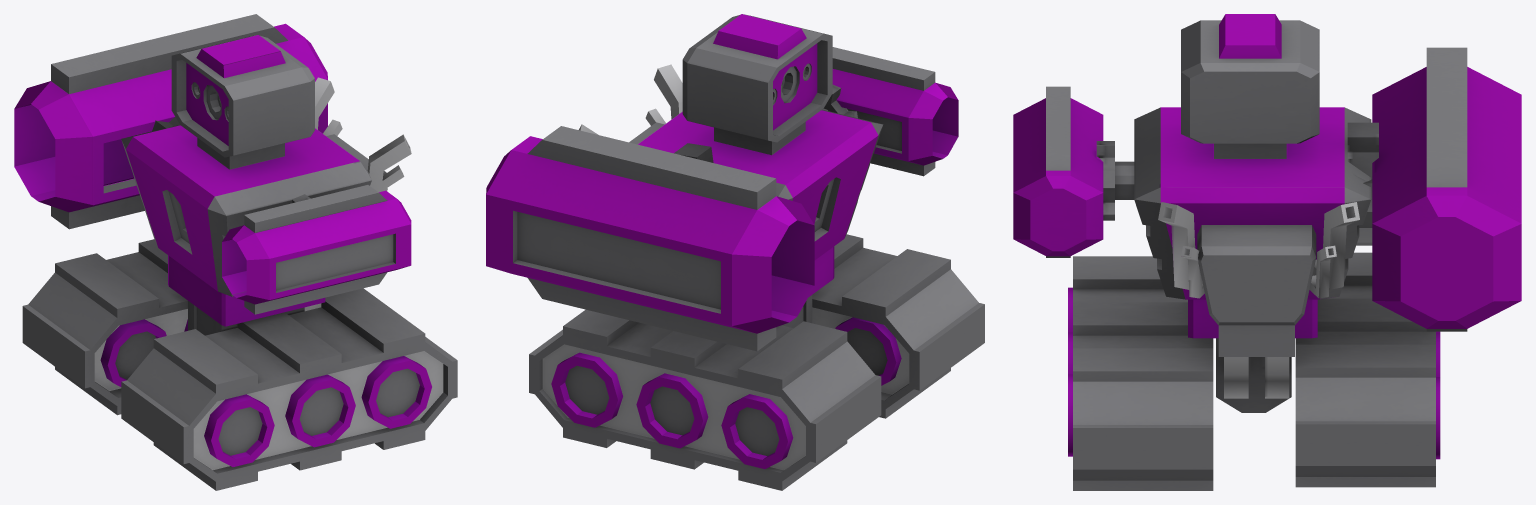
The model's file is Enemy2_Attack12.obj.
3 views of the same model, side by side, from view 1: azimuth 30°, elevation 25°; view 2: azimuth 150°, elevation 25°; view 3: azimuth 270°, elevation 25° (orthographic). The views are drawn at different scales.
Parts seen in each view (by area): view 1: Object006, Object007, Object011, Object010; view 2: Object006, Object011, Object007, Object010; view 3: Object006, Object007, Object011, Object010, Object009, Object008.
Part boxes in pixels (x1,y1,x2,y2): Object006: (22,185,457,490); Object007: (121,35,371,335); Object011: (14,14,327,229); Object010: (304,77,411,311); Object006: (529,47,984,490); Object011: (486,126,814,351); Object007: (637,14,883,328); Object010: (579,64,682,144); Object006: (1013,86,1440,490); Object007: (1134,14,1371,412); Object011: (1372,47,1521,331); Object010: (1158,202,1359,398); Object009: (1347,122,1378,245); Object008: (1096,141,1134,220).
Bounding box in the file's own units: 91.9 × 109 × 124.
